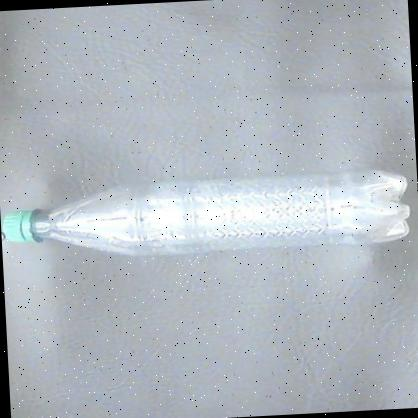bottle: (1, 162, 416, 268)
cap: (0, 194, 49, 245)
